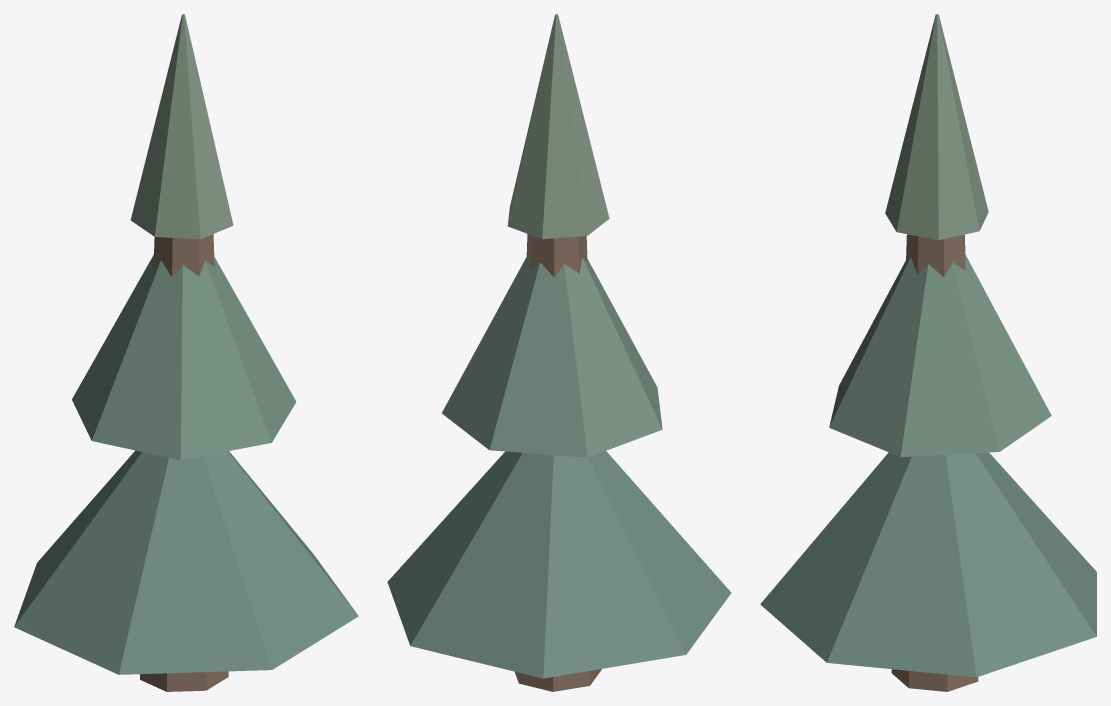
3 views of the same model, side by side, from view 1: azimuth 30°, elevation 25°; view 2: azimuth 150°, elevation 25°; view 3: azimuth 270°, elevation 25° (orthographic).
Parts seen in each view (by area): view 1: T19; view 2: T19; view 3: T19.
Boxes of the visible parts, x1,y1,x2,y2 form: T19: (14,14,358,691); T19: (387,14,731,691); T19: (760,14,1096,691).
Bounding box in the file's own units: 0.9077 × 1.91 × 0.8849.
